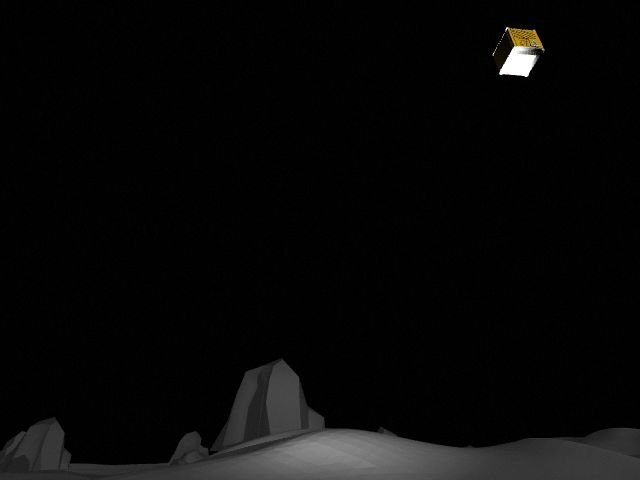cubesat: (486, 21, 549, 85)
